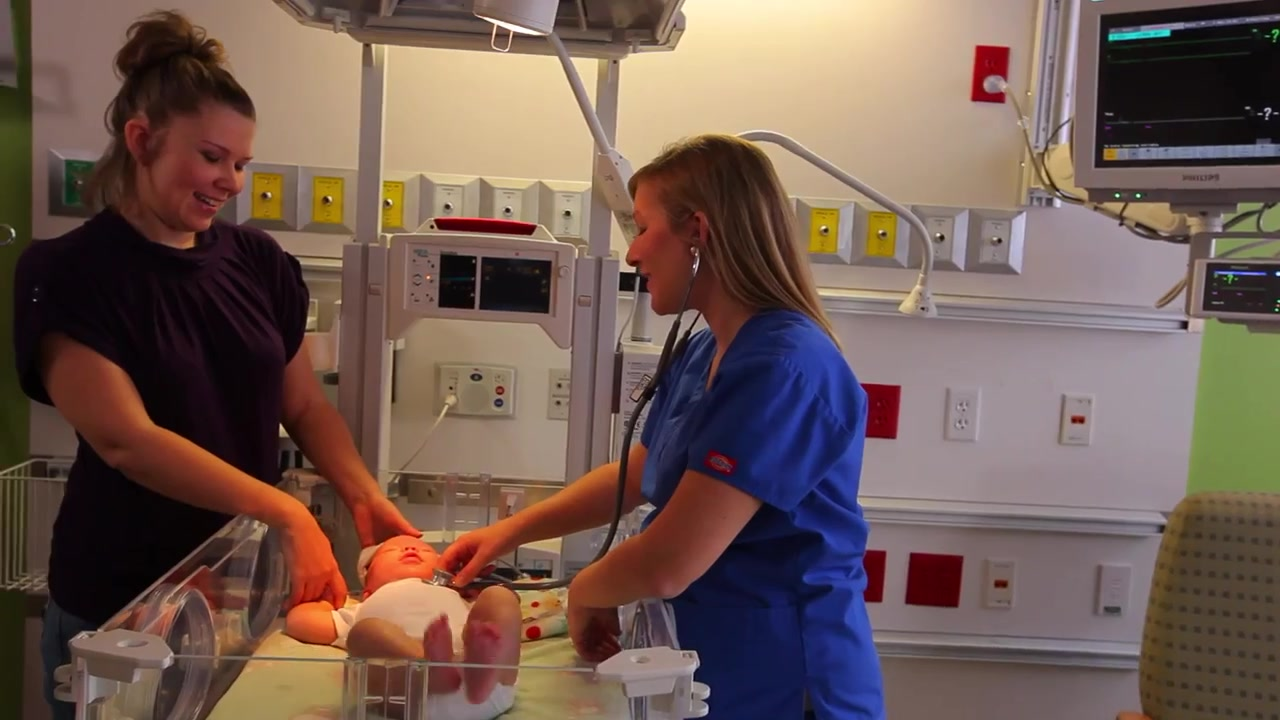bedside_monitor: (1071, 1, 1280, 202), (1185, 259, 1280, 327)
chair: (1119, 486, 1280, 720)
panda_baby_warmer: (67, 2, 706, 720)
patient: (284, 534, 523, 720)
staff: (436, 133, 887, 720)
visitor: (12, 9, 424, 720)
